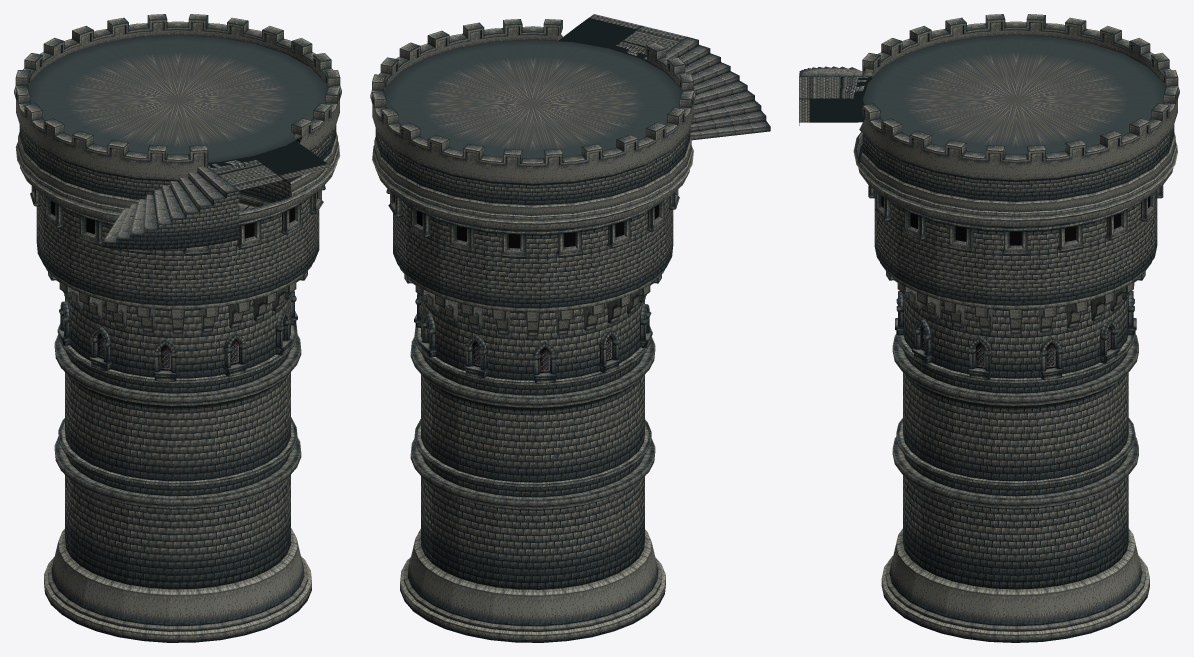
The model's file is EnvBdgMD_Castle_Rain_A_Tower_Boss.FBX.
The picture shows the model from 3 angles, left to right: view 1: azimuth 30°, elevation 25°; view 2: azimuth 150°, elevation 25°; view 3: azimuth 270°, elevation 25°; orthographic projection.
Parts seen in each view (by area): view 1: EnvBdgMD_Castle_Rain_A_Tower_Boss; view 2: EnvBdgMD_Castle_Rain_A_Tower_Boss; view 3: EnvBdgMD_Castle_Rain_A_Tower_Boss.
Part boxes in pixels (x1,y1,x2,y2): EnvBdgMD_Castle_Rain_A_Tower_Boss: (14,14,341,642); EnvBdgMD_Castle_Rain_A_Tower_Boss: (370,14,770,642); EnvBdgMD_Castle_Rain_A_Tower_Boss: (799,14,1179,642).
Bounding box in the file's own units: 1915 × 3077 × 2108.
